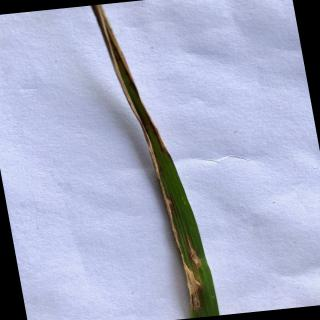Hawar-Daun: (97, 5, 155, 135), (145, 137, 185, 252), (175, 253, 207, 310), (186, 235, 205, 268)
